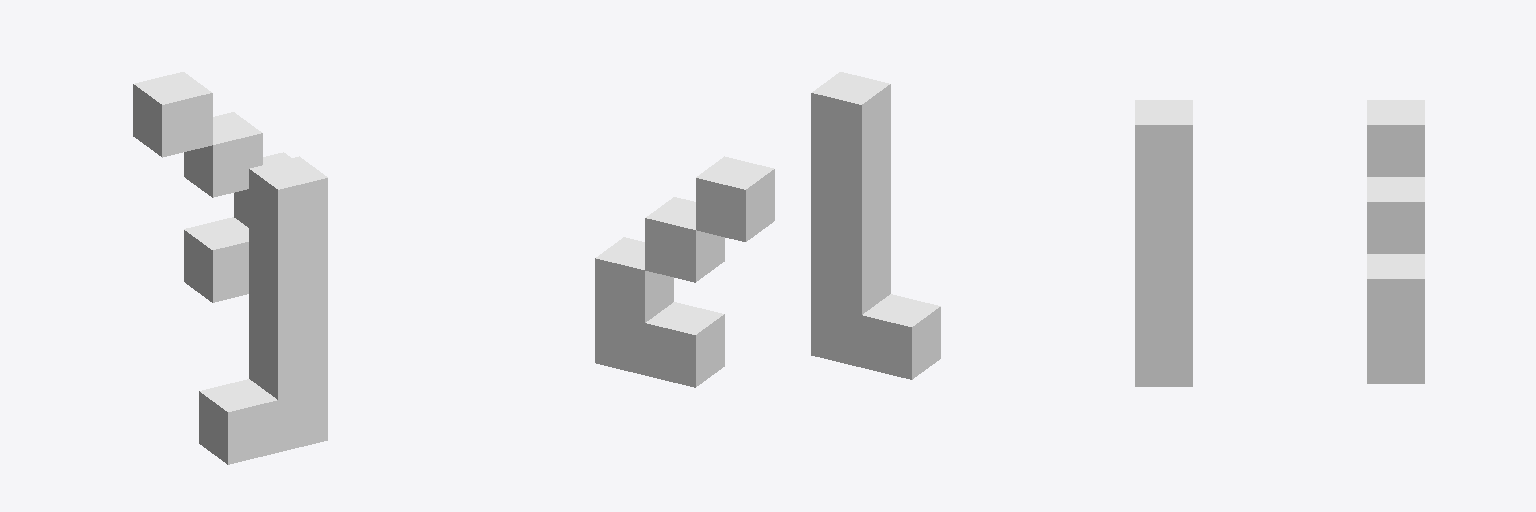
File: orc-10-torso_walk.obj
The picture shows the model from 3 angles: view 1: azimuth 30°, elevation 25°; view 2: azimuth 150°, elevation 25°; view 3: azimuth 270°, elevation 25°; orthographic projection.
Visible parts, largest first — view 1: torso_walk; view 2: torso_walk; view 3: torso_walk.
Boxes of the visible parts, x1,y1,x2,y2 form: torso_walk: [133, 72, 327, 464]; torso_walk: [595, 72, 940, 387]; torso_walk: [1135, 100, 1424, 386].
Size of the model in its own units: 0.4 by 0.5 by 0.5.